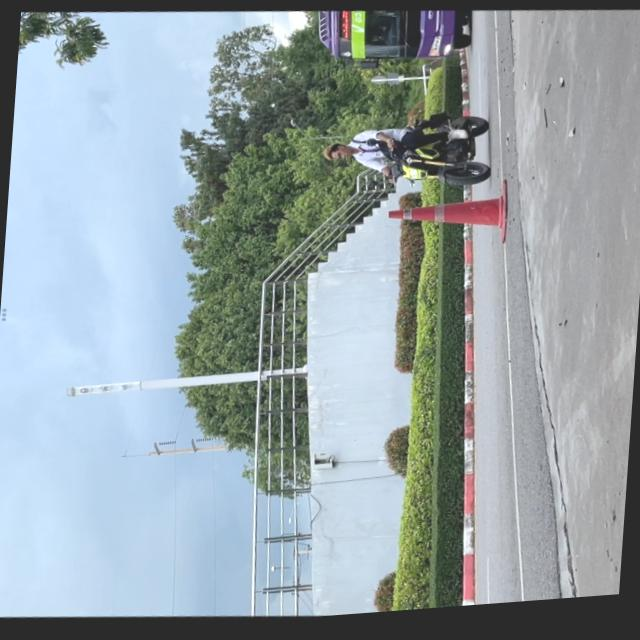seatbelt: (322, 144, 353, 166)
